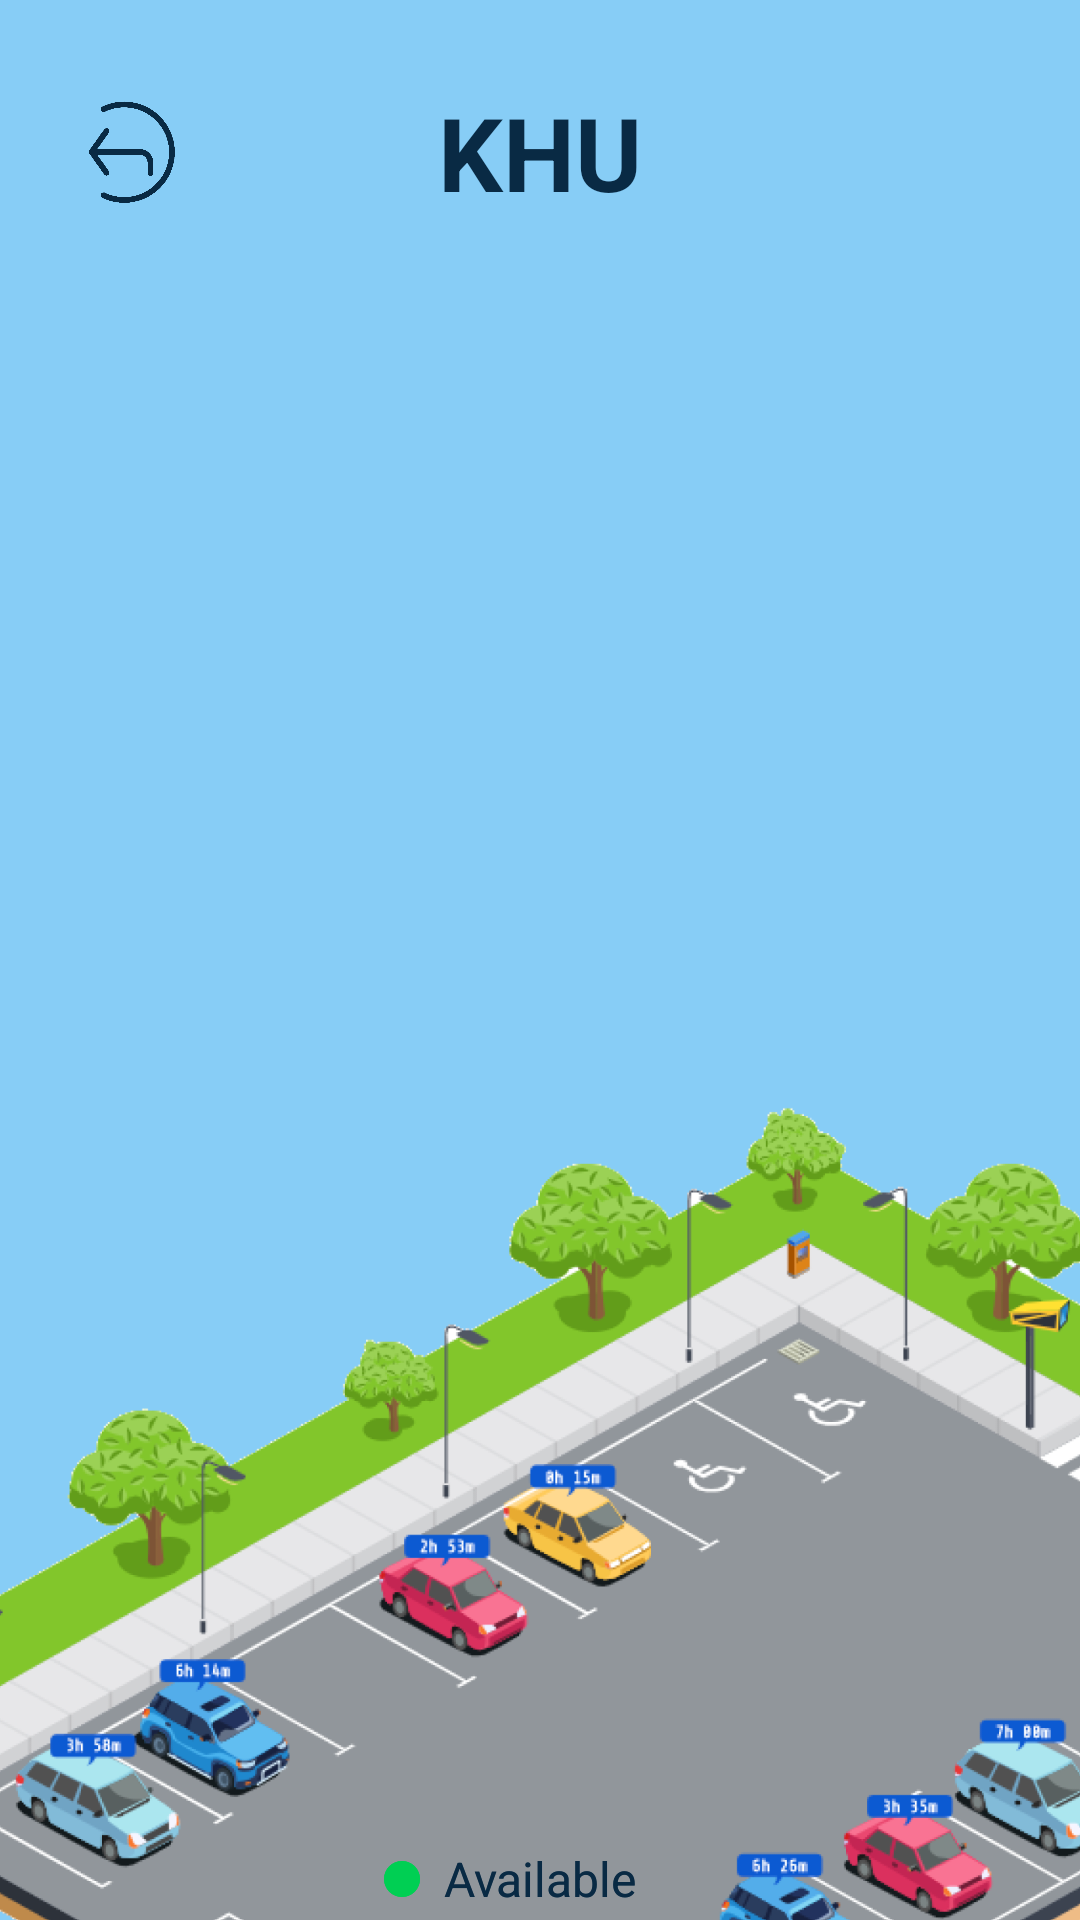

Named icons in this screenshot (1080 × 1920) and their centers, [x,y]:
back: [132,152]
